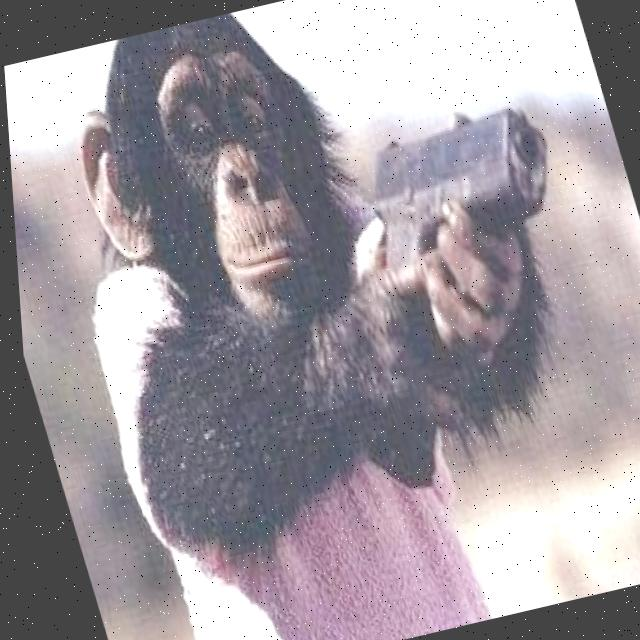pistol: (345, 95, 574, 278)
